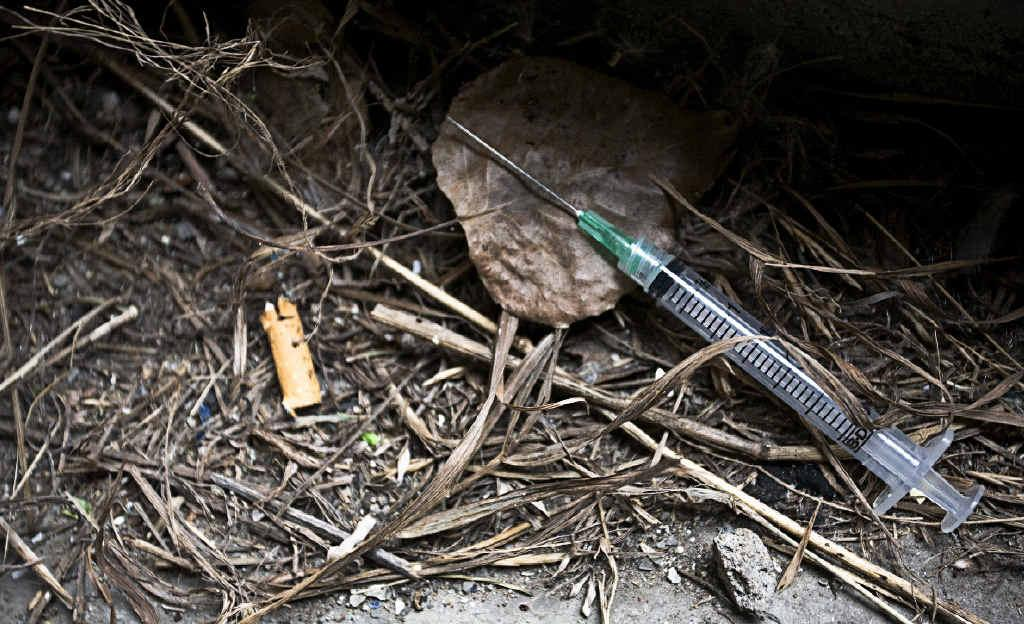Syringe: (725, 338, 983, 531)
